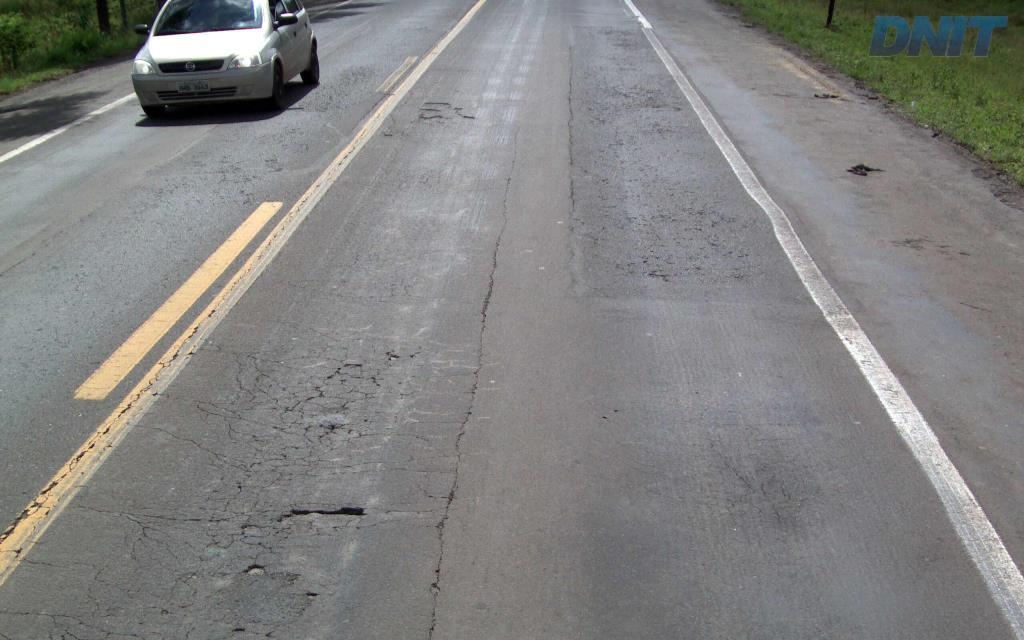crack: (275, 505, 367, 522)
pothole: (266, 503, 377, 526), (414, 97, 480, 124), (236, 562, 269, 573)
